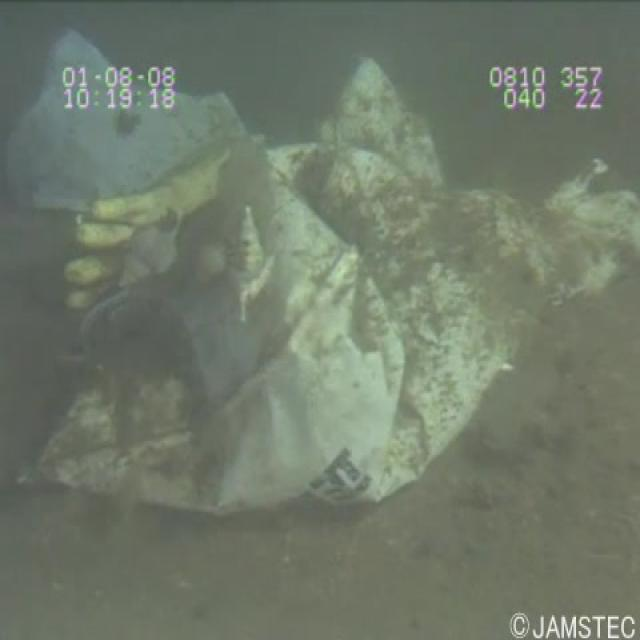plastic: (4, 11, 639, 540)
